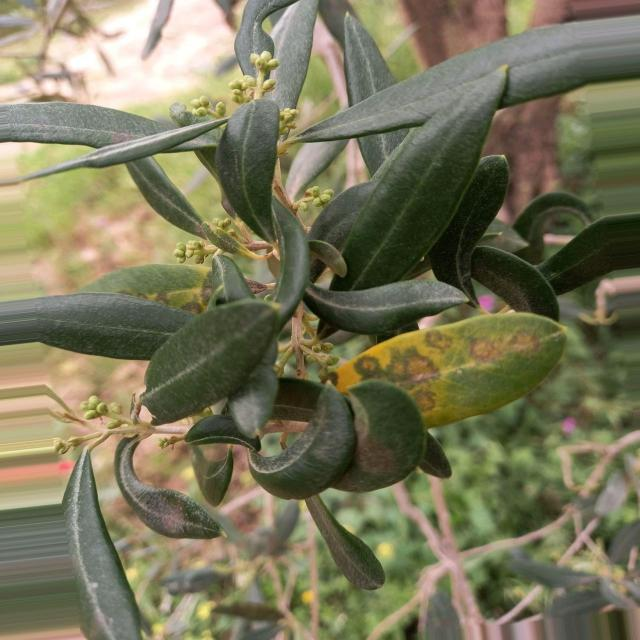Peacock Eye: (336, 313, 566, 429), (78, 264, 213, 314)
